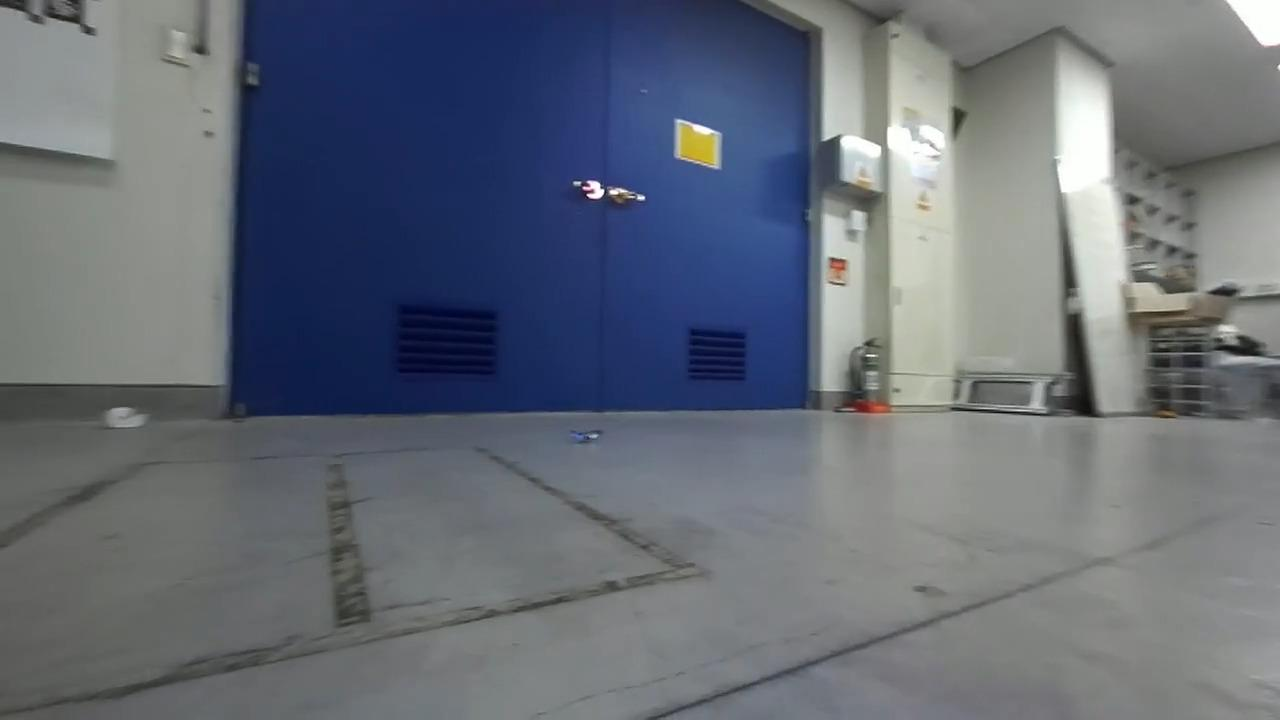crazyflie: (561, 421, 616, 451)
